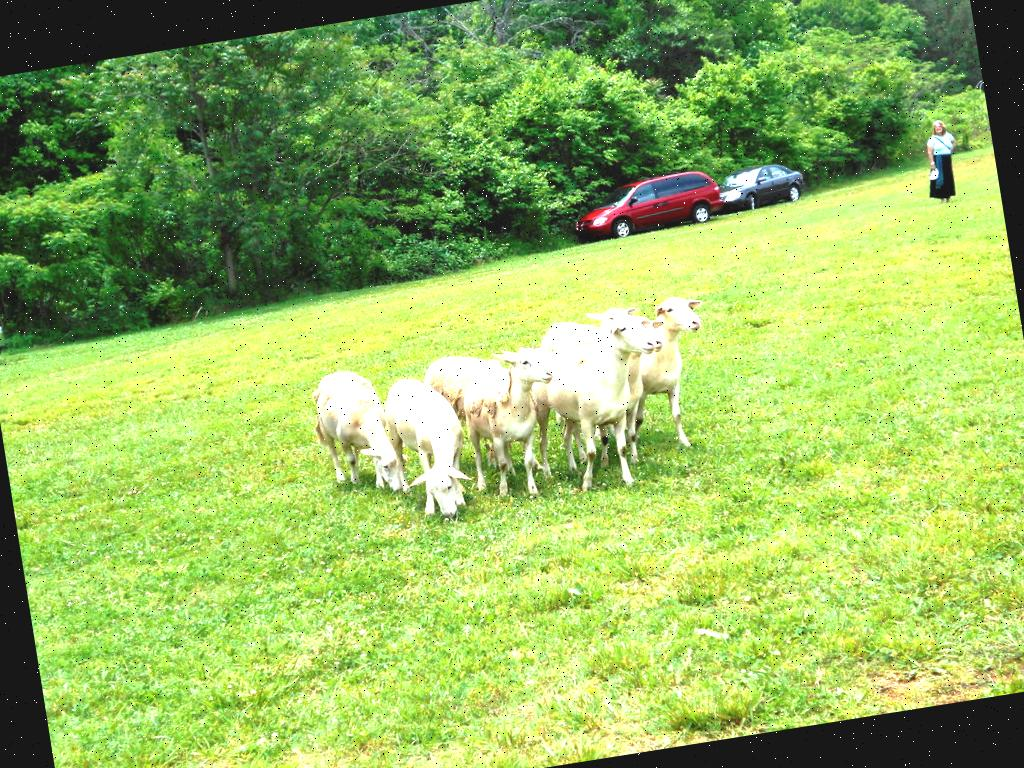Sheep: (524, 311, 676, 496), (541, 316, 686, 478), (454, 343, 574, 512), (615, 292, 723, 454), (305, 360, 400, 510), (377, 372, 458, 526), (418, 352, 512, 478)
